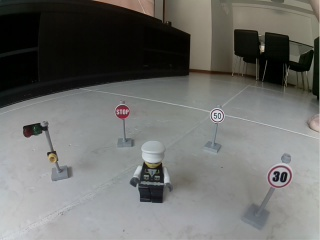Person: (130, 141, 174, 205)
Red Traffic Light: (23, 121, 70, 182)
Speed Limit 30: (266, 164, 293, 188)
Speed Limit 50: (210, 108, 224, 124)
Stop Sign: (115, 105, 130, 120)
